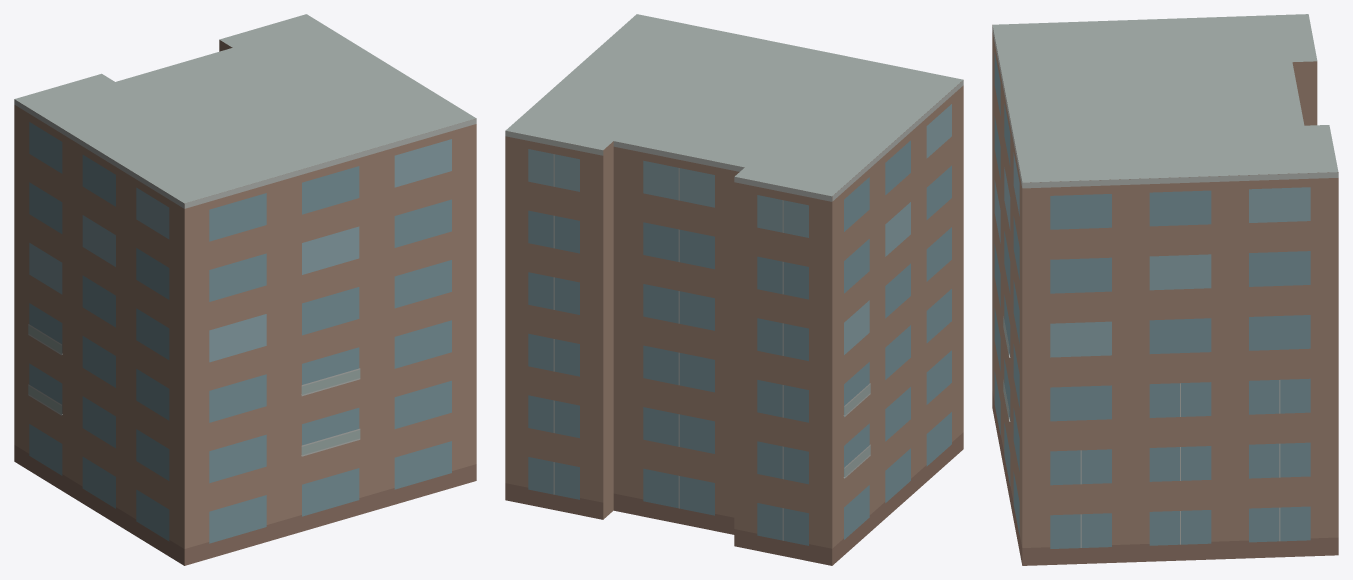
File: survey-upis-32743023.glb
The picture shows the model from 3 angles, left to right: view 1: azimuth 30°, elevation 25°; view 2: azimuth 150°, elevation 25°; view 3: azimuth 270°, elevation 25°; orthographic projection. The views are drawn at different scales.
Visible parts, largest first — view 1: survey-upis-32743023.tmp; view 2: survey-upis-32743023.tmp; view 3: survey-upis-32743023.tmp.
Boxes of the visible parts, bbox=[...] form: survey-upis-32743023.tmp: bbox=[14, 14, 476, 565]; survey-upis-32743023.tmp: bbox=[505, 14, 963, 565]; survey-upis-32743023.tmp: bbox=[992, 14, 1338, 565].
Bounding box in the file's own units: 15.4 × 16.3 × 13.35.
